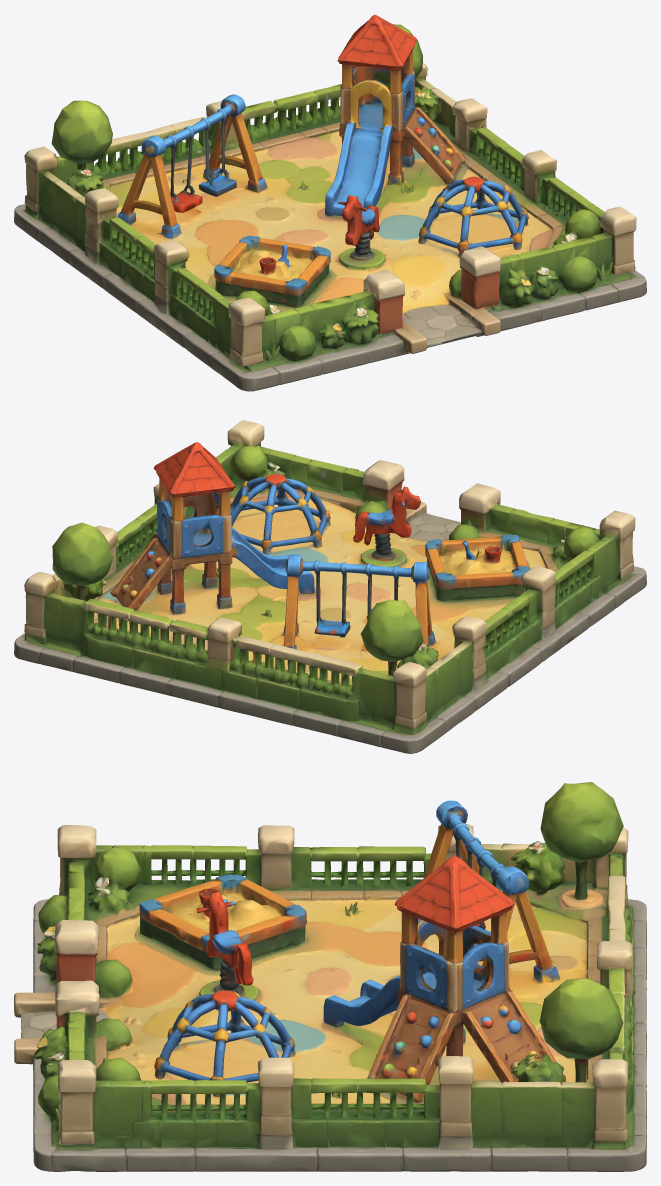
The model's file is playground.glb.
3 views of the same model, one above another, from view 1: azimuth 30°, elevation 25°; view 2: azimuth 150°, elevation 25°; view 3: azimuth 270°, elevation 25° (orthographic). The views are drawn at different scales.
Parts seen in each view (by area): view 1: tripo_node_79228a2e-7c7d-4e28-aa32-0fc45acd3126; view 2: tripo_node_79228a2e-7c7d-4e28-aa32-0fc45acd3126; view 3: tripo_node_79228a2e-7c7d-4e28-aa32-0fc45acd3126.
Boxes of the visible parts, left/top/right/bottom form: tripo_node_79228a2e-7c7d-4e28-aa32-0fc45acd3126: left=14, top=14, right=646, bottom=391; tripo_node_79228a2e-7c7d-4e28-aa32-0fc45acd3126: left=14, top=420, right=646, bottom=753; tripo_node_79228a2e-7c7d-4e28-aa32-0fc45acd3126: left=14, top=782, right=646, bottom=1171.
Size of the model in its own units: 0.9615 by 0.4354 by 1.
Materials: 1 (1 with a texture image).
